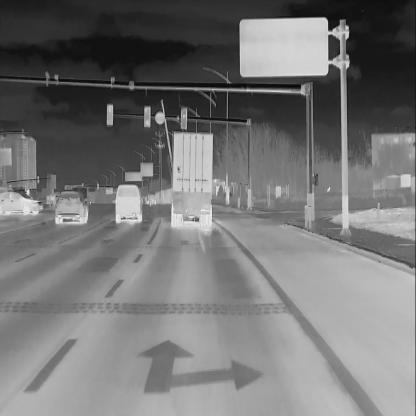car: (0, 186, 43, 217), (114, 182, 144, 223), (54, 190, 88, 225), (71, 184, 91, 211)
truck: (168, 128, 218, 235)
